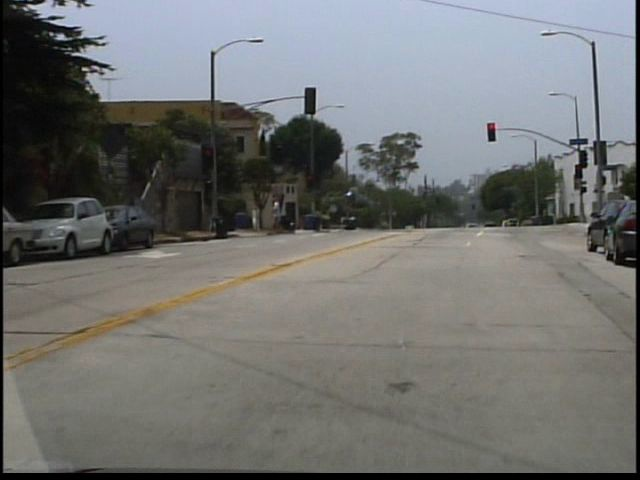person: (273, 198, 288, 236), (257, 203, 267, 234)
